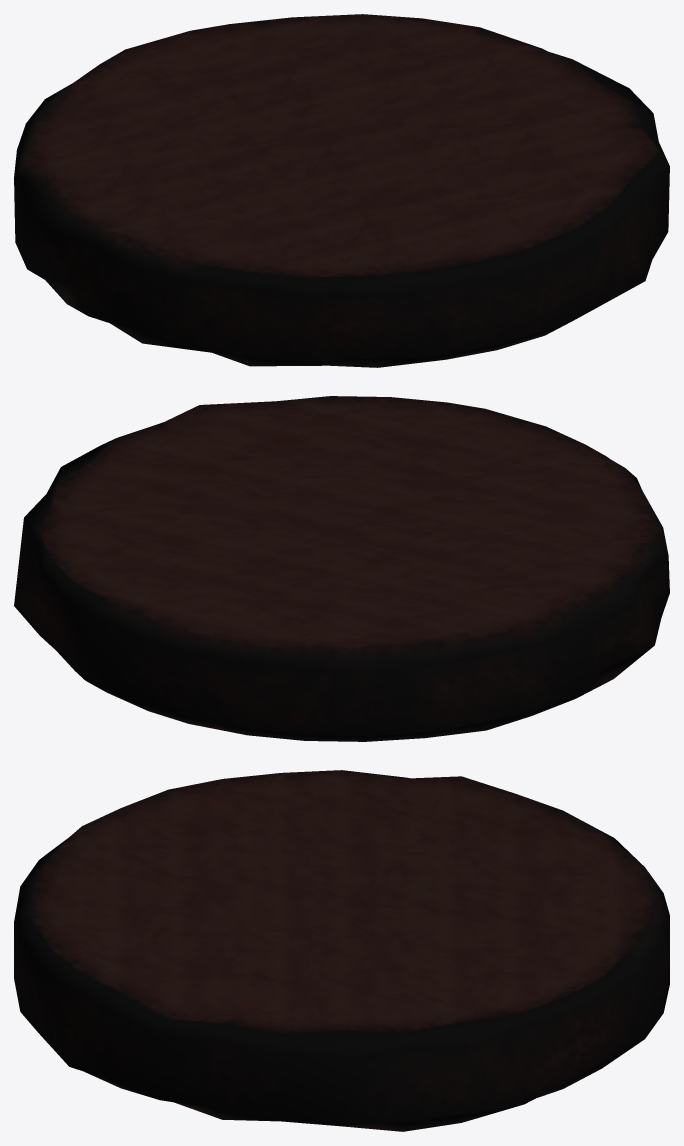
Rendered from MeatPattyBurned_Visual.glb.
3 views of the same model, one above another, from view 1: azimuth 30°, elevation 25°; view 2: azimuth 150°, elevation 25°; view 3: azimuth 270°, elevation 25° (orthographic). The views are drawn at different scales.
Visible parts, largest first — view 1: Burned_meat_patty; view 2: Burned_meat_patty; view 3: Burned_meat_patty.
Boxes of the visible parts, <box> form: Burned_meat_patty: <box>14,14,669,367</box>; Burned_meat_patty: <box>14,396,669,741</box>; Burned_meat_patty: <box>14,770,669,1131</box>.
Size of the model in its own units: 0.7156 by 0.1083 by 0.691.
1 material, 1 textured.
